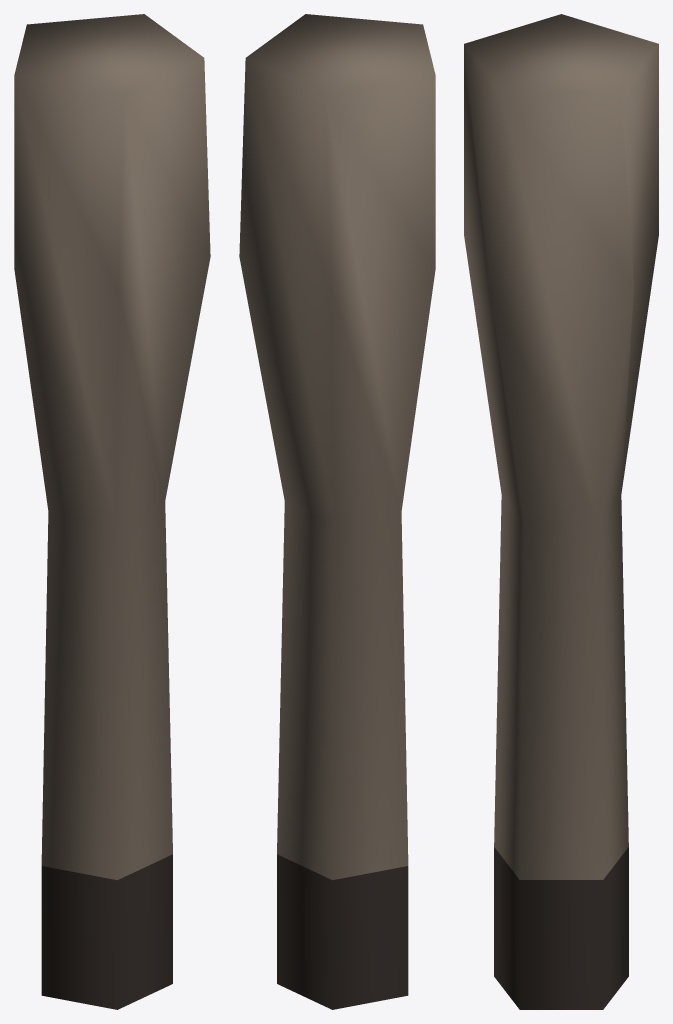
File: animal_caribou_leg.obj
The picture shows the model from 3 angles, left to right: view 1: azimuth 30°, elevation 25°; view 2: azimuth 150°, elevation 25°; view 3: azimuth 270°, elevation 25°; orthographic projection.
Parts seen in each view (by area): view 1: animal_caribou_leg; view 2: animal_caribou_leg; view 3: animal_caribou_leg.
Part boxes in pixels (x1,y1,x2,y2): animal_caribou_leg: (14,14,210,1009); animal_caribou_leg: (239,14,435,1009); animal_caribou_leg: (464,14,658,1009).
Bounding box in the file's own units: 0.1106 × 0.6125 × 0.1164.
